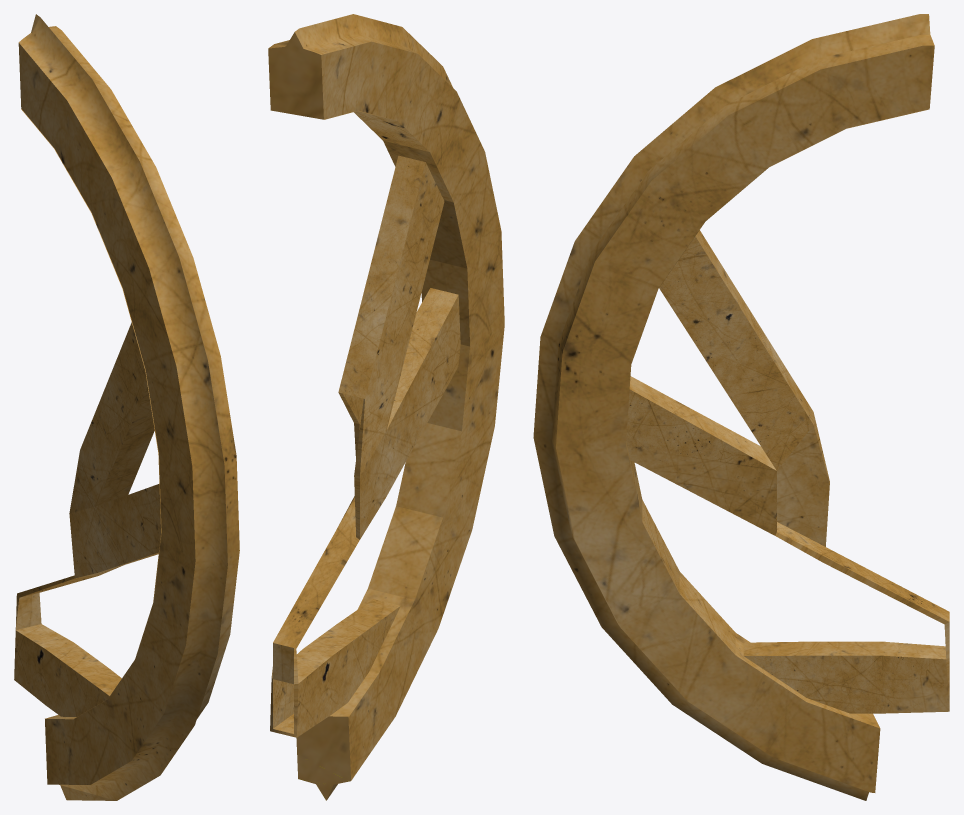
Rendered from medalhaop3.fbx.
3 renders of one model, left to right at view 1: azimuth 30°, elevation 25°; view 2: azimuth 150°, elevation 25°; view 3: azimuth 270°, elevation 25°, orthographic. The views are drawn at different scales.
Visible parts, largest first — view 1: shard8; view 2: shard8; view 3: shard8.
Part boxes in pixels (x1=…): shard8: x1=14, y1=14, x2=239, y2=800; shard8: x1=268, y1=14, x2=504, y2=800; shard8: x1=533, y1=14, x2=949, y2=800.
Bounding box in the file's own units: 0.2052 × 3.3 × 1.58.
Materials: 2 (1 with a texture image).
